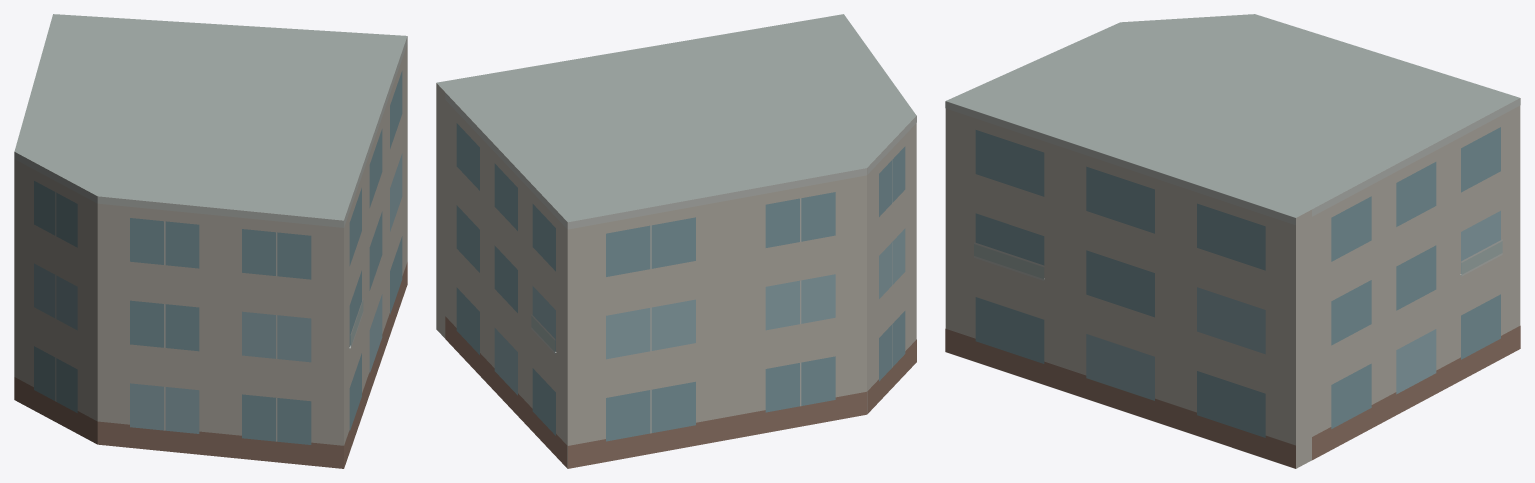
The model's file is survey-upis-32502072.glb.
3 renders of one model, left to right at view 1: azimuth 30°, elevation 25°; view 2: azimuth 150°, elevation 25°; view 3: azimuth 270°, elevation 25°, orthographic.
Visible parts, largest first — view 1: survey-upis-32502072.tmp; view 2: survey-upis-32502072.tmp; view 3: survey-upis-32502072.tmp.
Part boxes in pixels (box(x1,y1,x2,y2)): survey-upis-32502072.tmp: box(14, 14, 407, 468); survey-upis-32502072.tmp: box(436, 14, 916, 468); survey-upis-32502072.tmp: box(945, 14, 1520, 468).
Size of the model in its own units: 14.48 by 8.3 by 17.25.
